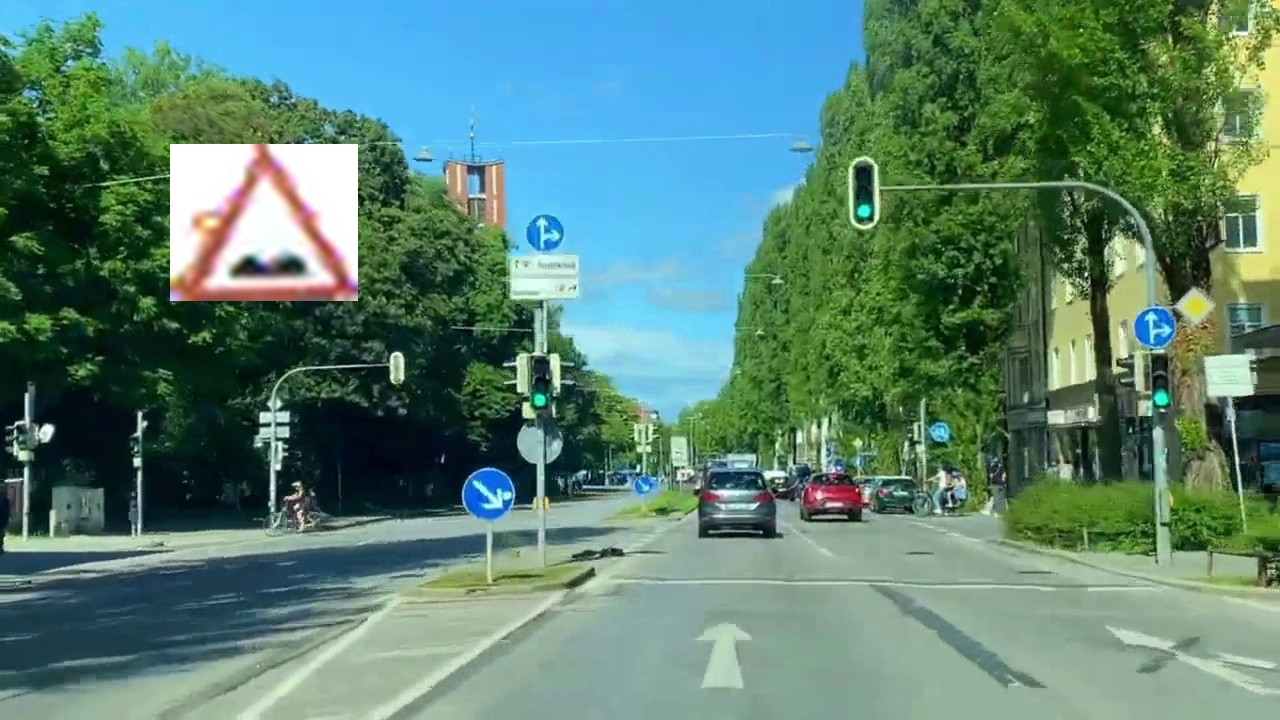Bumpy road: (170, 144, 358, 301)
